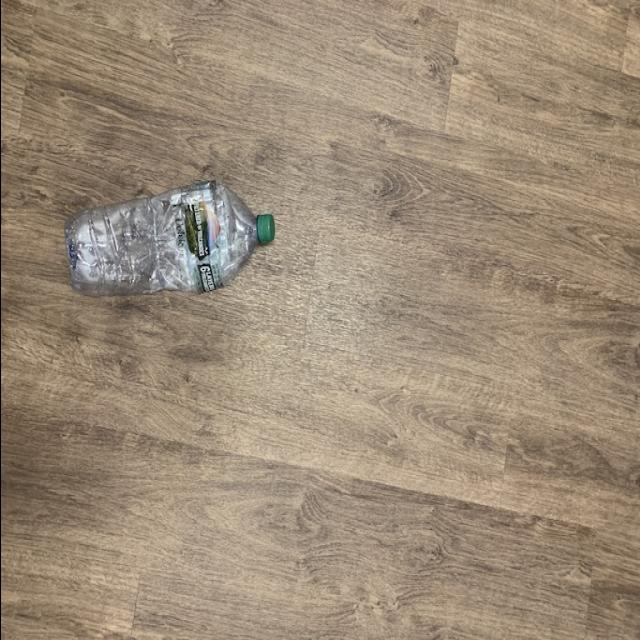PET: (64, 178, 276, 306)
